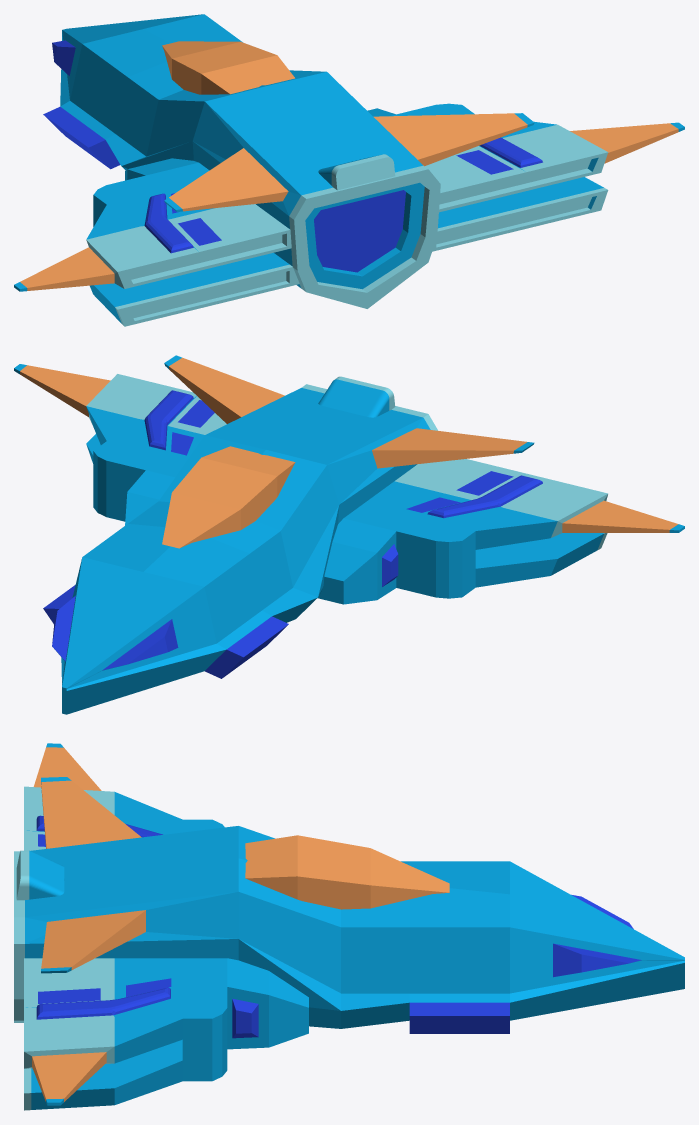
File: Boss2.fbx
3 renders of one model, top to bottom at view 1: azimuth 30°, elevation 25°; view 2: azimuth 150°, elevation 25°; view 3: azimuth 270°, elevation 25°, orthographic. The views are drawn at different scales.
Visible parts, largest first — view 1: Cube, Cube.002, Cube.001; view 2: Cube, Cube.002, Cube.001; view 3: Cube, Cube.001, Cube.002.
Boxes of the visible parts, x1=… form: Cube: x1=43, y1=14, x2=534, y2=308; Cube.002: x1=14, y1=158, x2=299, y2=326; Cube.001: x1=367, y1=103, x2=684, y2=251; Cube: x1=43, y1=355, x2=534, y2=714; Cube.002: x1=317, y1=459, x2=684, y2=604; Cube.001: x1=14, y1=364, x2=226, y2=525; Cube: x1=14, y1=777, x2=684, y2=1033; Cube.001: x1=24, y1=958, x2=308, y2=1110; Cube.002: x1=24, y1=743, x2=224, y2=850.
Size of the model in its own units: 487 by 106 by 384.
